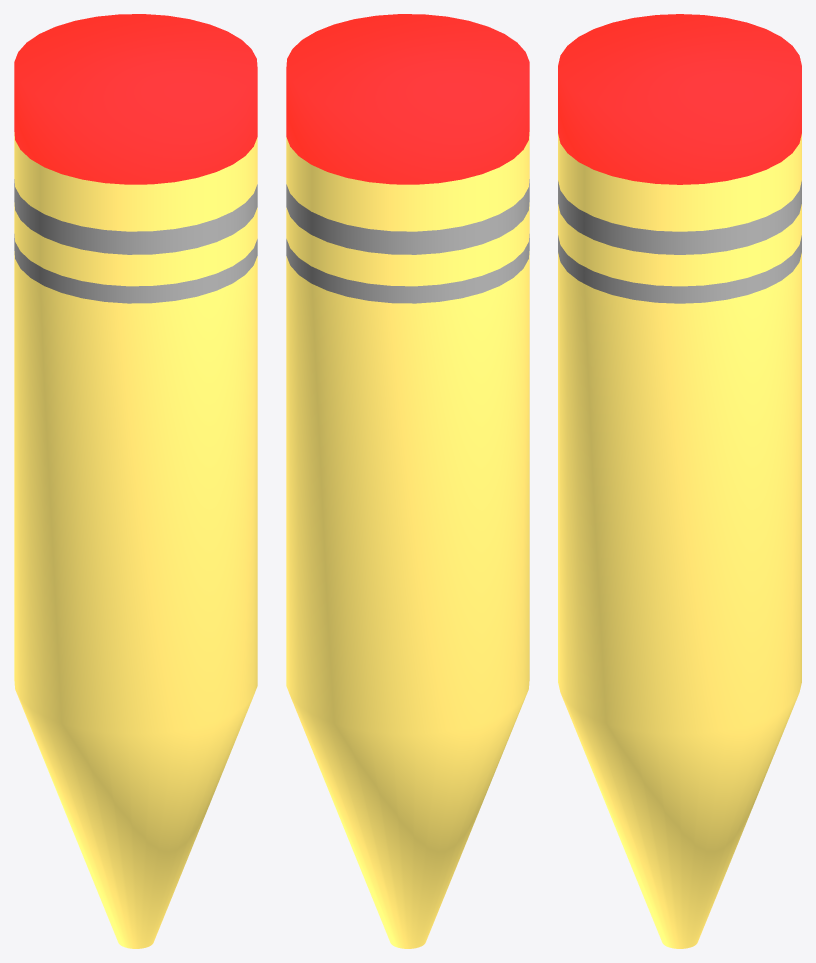
Rendered from Bullet2.fbx.
3 views of the same model, side by side, from view 1: azimuth 30°, elevation 25°; view 2: azimuth 150°, elevation 25°; view 3: azimuth 270°, elevation 25° (orthographic).
Visible parts, largest first — view 1: Cylinder; view 2: Cylinder; view 3: Cylinder.
Part boxes in pixels (x1,y1,x2,y2): Cylinder: [14, 14, 257, 948]; Cylinder: [286, 14, 529, 948]; Cylinder: [558, 14, 801, 948].
Size of the model in its own units: 0.4 by 1.59 by 0.4.
